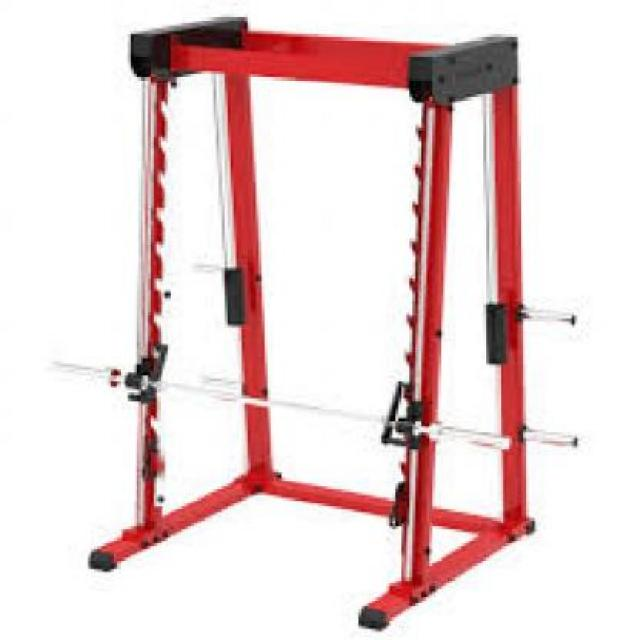smith machine: (51, 15, 578, 632)
